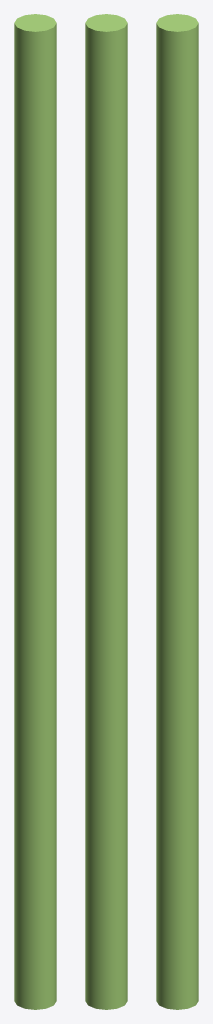
File: Pillar_01_x2_Lod0.fbx
3 views of the same model, side by side, from view 1: azimuth 90°, elevation 25°; view 2: azimuth 150°, elevation 25°; view 3: azimuth 270°, elevation 25° (orthographic).
Parts seen in each view (by area): view 1: Pillar_01_x2_Lod0; view 2: Pillar_01_x2_Lod0; view 3: Pillar_01_x2_Lod0.
Part boxes in pixels (x1=…): Pillar_01_x2_Lod0: x1=14, y1=14, x2=56, y2=1009; Pillar_01_x2_Lod0: x1=85, y1=14, x2=127, y2=1009; Pillar_01_x2_Lod0: x1=156, y1=14, x2=198, y2=1009.
Bounding box in the file's own units: 23.57 × 600 × 23.57.
